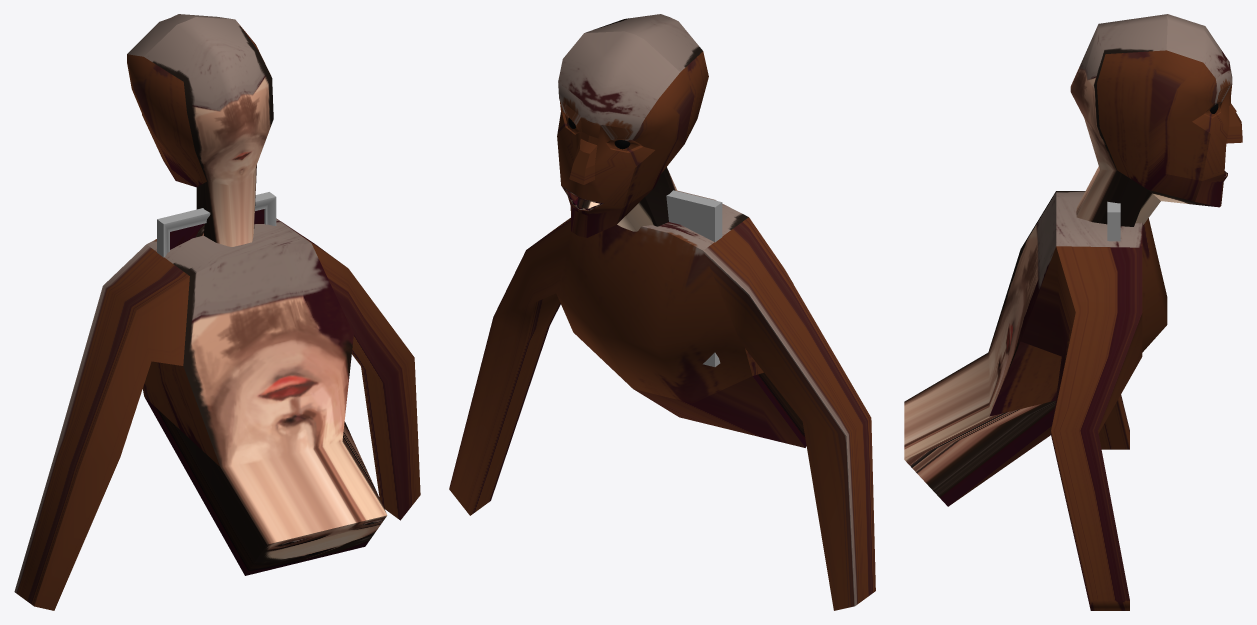
The model's file is monsterupdated.fbx.
3 views of the same model, side by side, from view 1: azimuth 30°, elevation 25°; view 2: azimuth 150°, elevation 25°; view 3: azimuth 270°, elevation 25° (orthographic). The views are drawn at different scales.
Visible parts, largest first — view 1: body2, drawing, pPlane2; view 2: body2, drawing; view 3: body2, drawing.
Boxes of the visible parts, x1,y1,x2,y2 form: body2: (14,14,420,610); drawing: (157,192,276,257); pPlane2: (170,209,264,249); body2: (449,14,875,610); drawing: (666,190,722,366); body2: (904,14,1242,610); drawing: (1107,201,1120,241).
Size of the model in its own units: 28.01 by 36.12 by 21.44.
3 materials, 1 textured.
